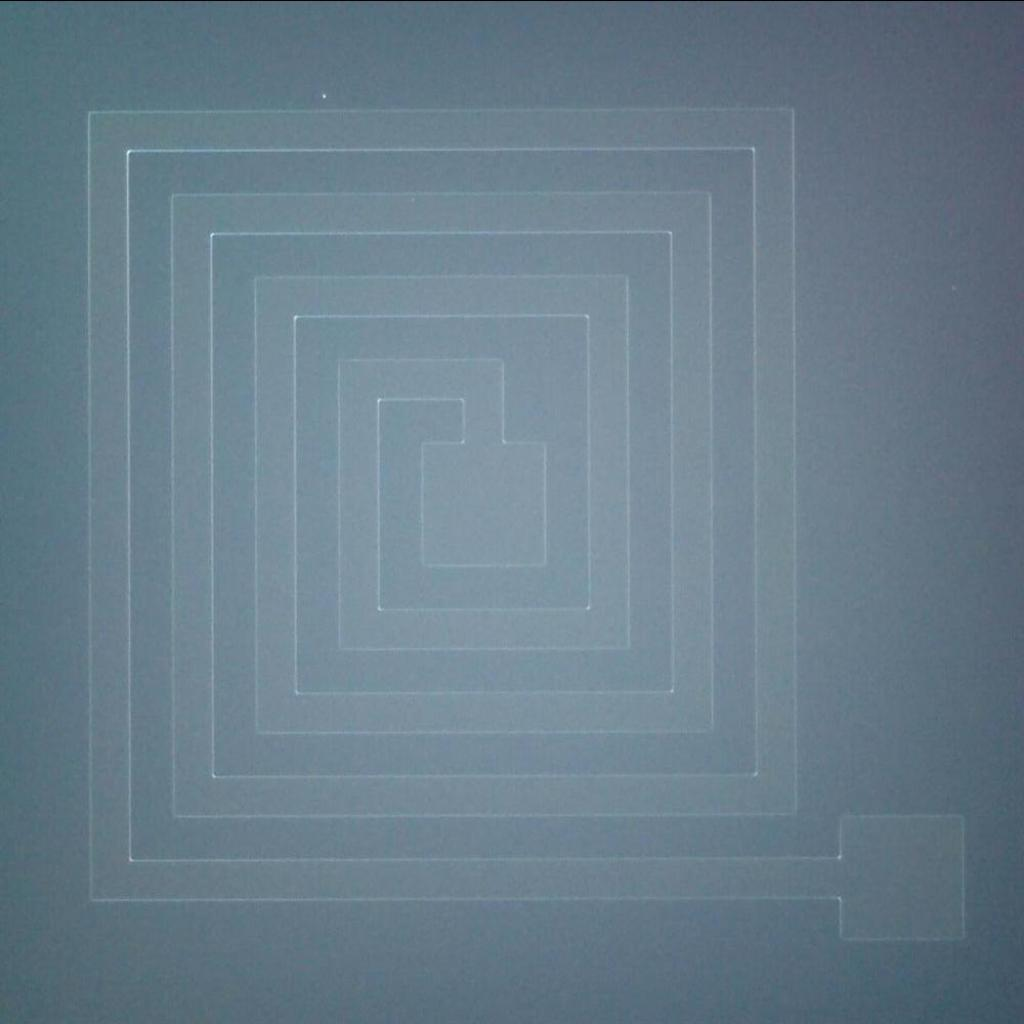dot: (312, 80, 337, 109)
